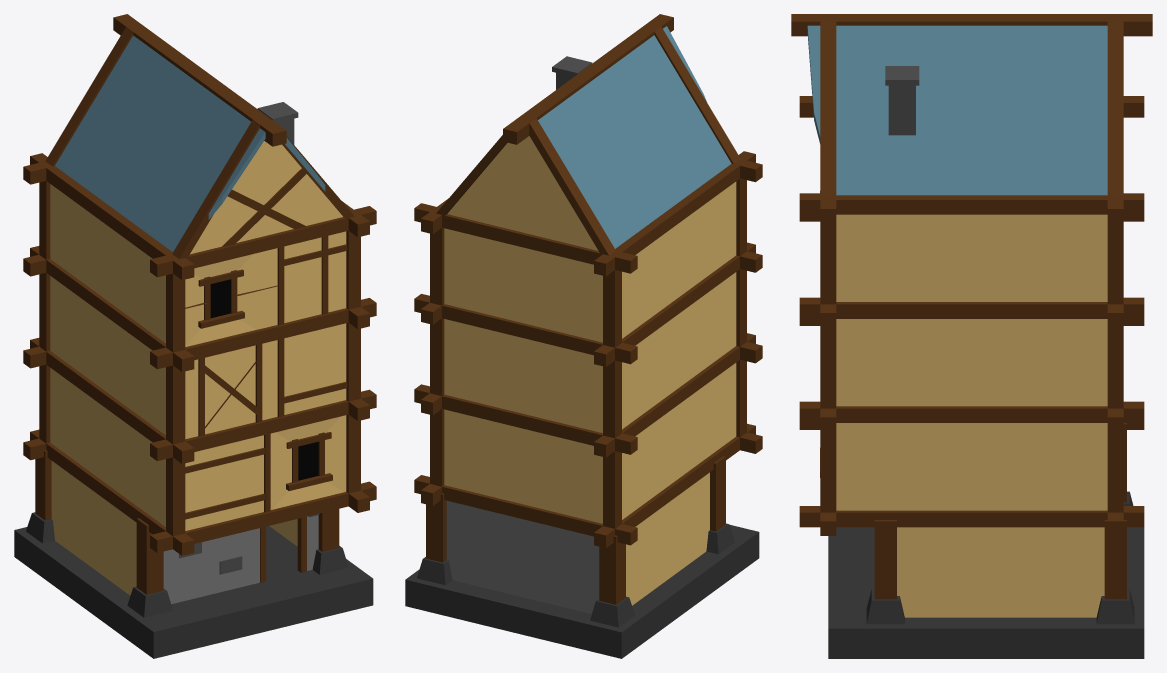
Rendered from MBS_City_Core01_02.fbx.
The picture shows the model from 3 angles, left to right: view 1: azimuth 30°, elevation 25°; view 2: azimuth 150°, elevation 25°; view 3: azimuth 270°, elevation 25°; orthographic projection. The views are drawn at different scales.
Visible parts, largest first — view 1: Cube.839; view 2: Cube.839; view 3: Cube.839.
Boxes of the visible parts, <box> form: Cube.839: <box>14,14,376,658</box>; Cube.839: <box>405,14,762,658</box>; Cube.839: <box>791,14,1152,658</box>.
Size of the model in its own units: 1000 by 2228 by 1256.
